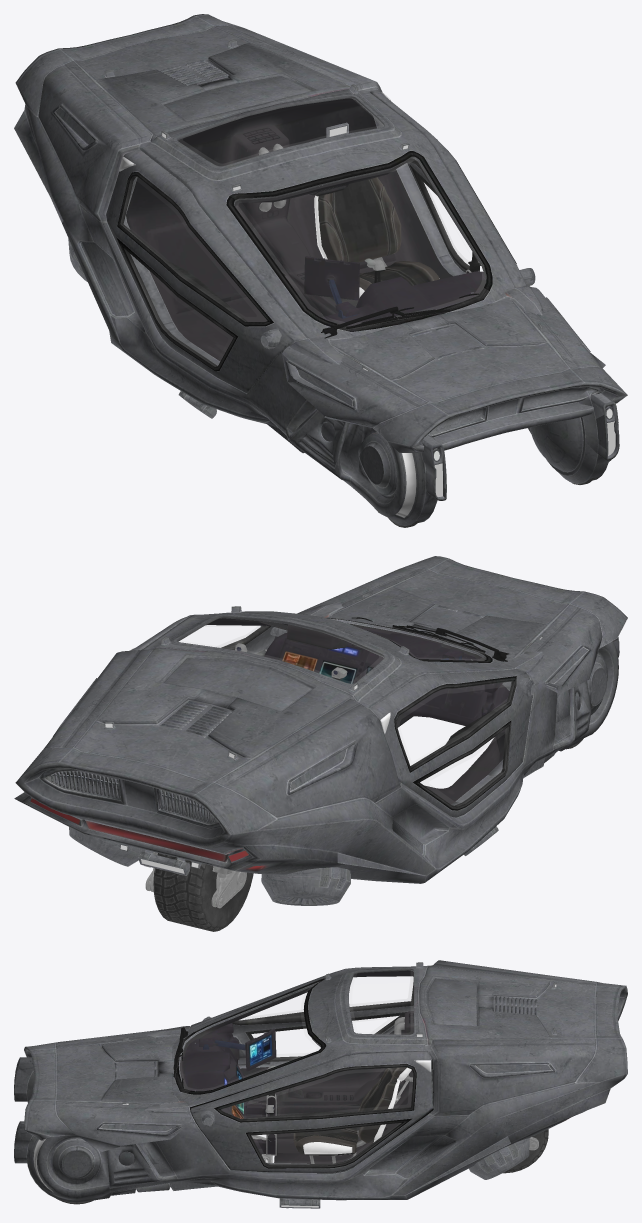
Rendered from car1mb.glb.
The picture shows the model from 3 angles, top to bottom: view 1: azimuth 30°, elevation 25°; view 2: azimuth 150°, elevation 25°; view 3: azimuth 270°, elevation 25°; orthographic projection. The views are drawn at different scales.
Parts seen in each view (by area): view 1: spinner; view 2: spinner; view 3: spinner.
Part boxes in pixels (left/top/right/bottom): spinner: left=14, top=14, right=627, bottom=527; spinner: left=14, top=556, right=627, bottom=931; spinner: left=14, top=960, right=627, bottom=1208.
Bounding box in the file's own units: 1.37 × 0.9422 × 3.
Materials: 3 (3 with a texture image).
